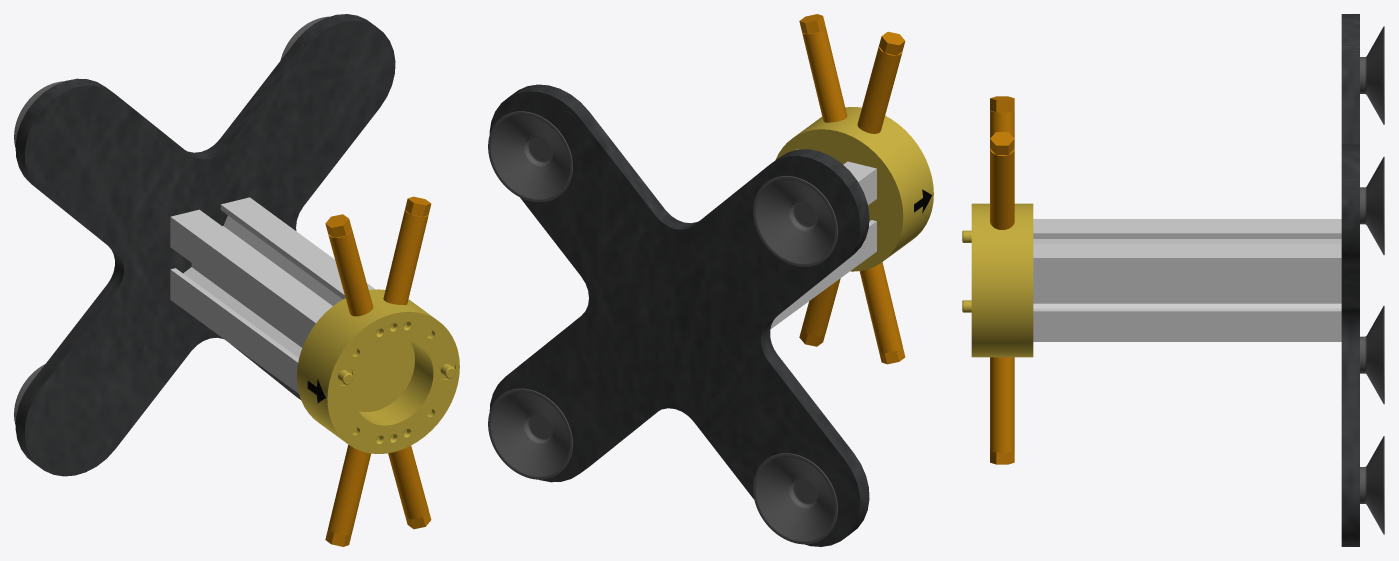
3 renders of one model, left to right at view 1: azimuth 30°, elevation 25°; view 2: azimuth 150°, elevation 25°; view 3: azimuth 270°, elevation 25°, orthographic.
Visible parts, largest first — view 1: vg_4.SLDPRT; view 2: vg_4.SLDPRT; view 3: vg_4.SLDPRT.
Part boxes in pixels (x1,y1,x2,y2): vg_4.SLDPRT: (14,14,459,546); vg_4.SLDPRT: (488,14,933,546); vg_4.SLDPRT: (962,14,1384,546).
Bounding box in the file's own units: 0.07 × 0.07 × 0.0685.
6 materials, 1 textured.
